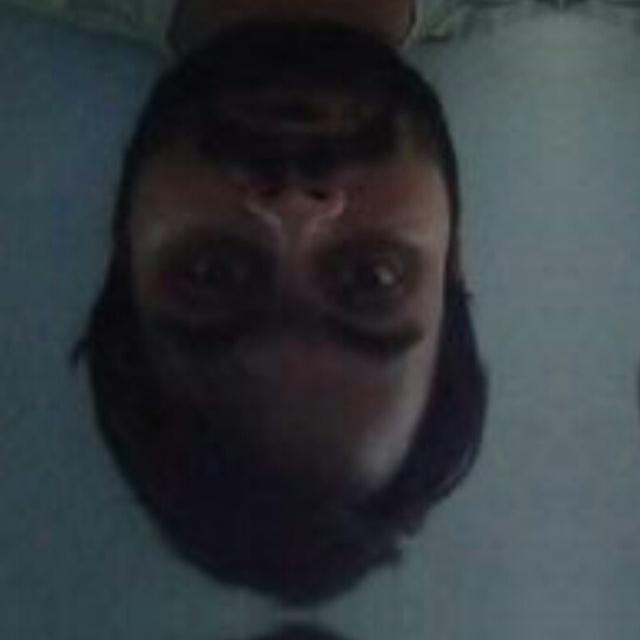Natural: (93, 13, 498, 577)
